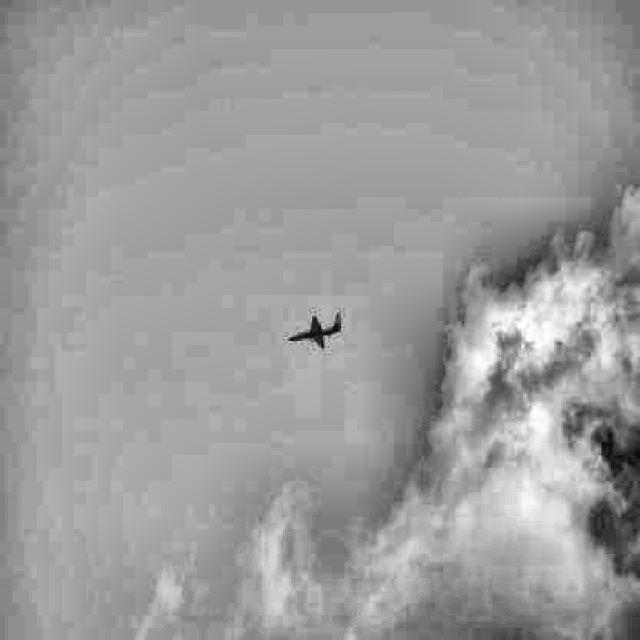U2: (288, 312, 342, 350)
